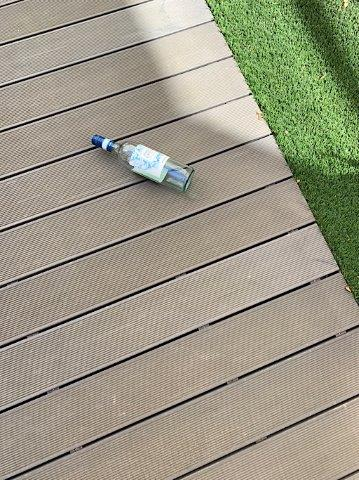botolkaca: (91, 135, 195, 195)
